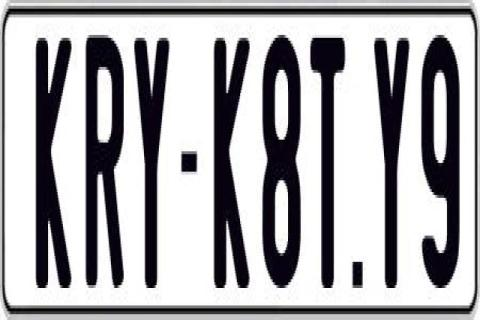0: (260, 32, 299, 296), (422, 32, 460, 291)
K: (214, 35, 252, 288), (33, 29, 68, 282)
R: (84, 35, 125, 291)
T: (308, 32, 349, 285)
Y: (133, 38, 171, 288), (373, 35, 408, 291)
